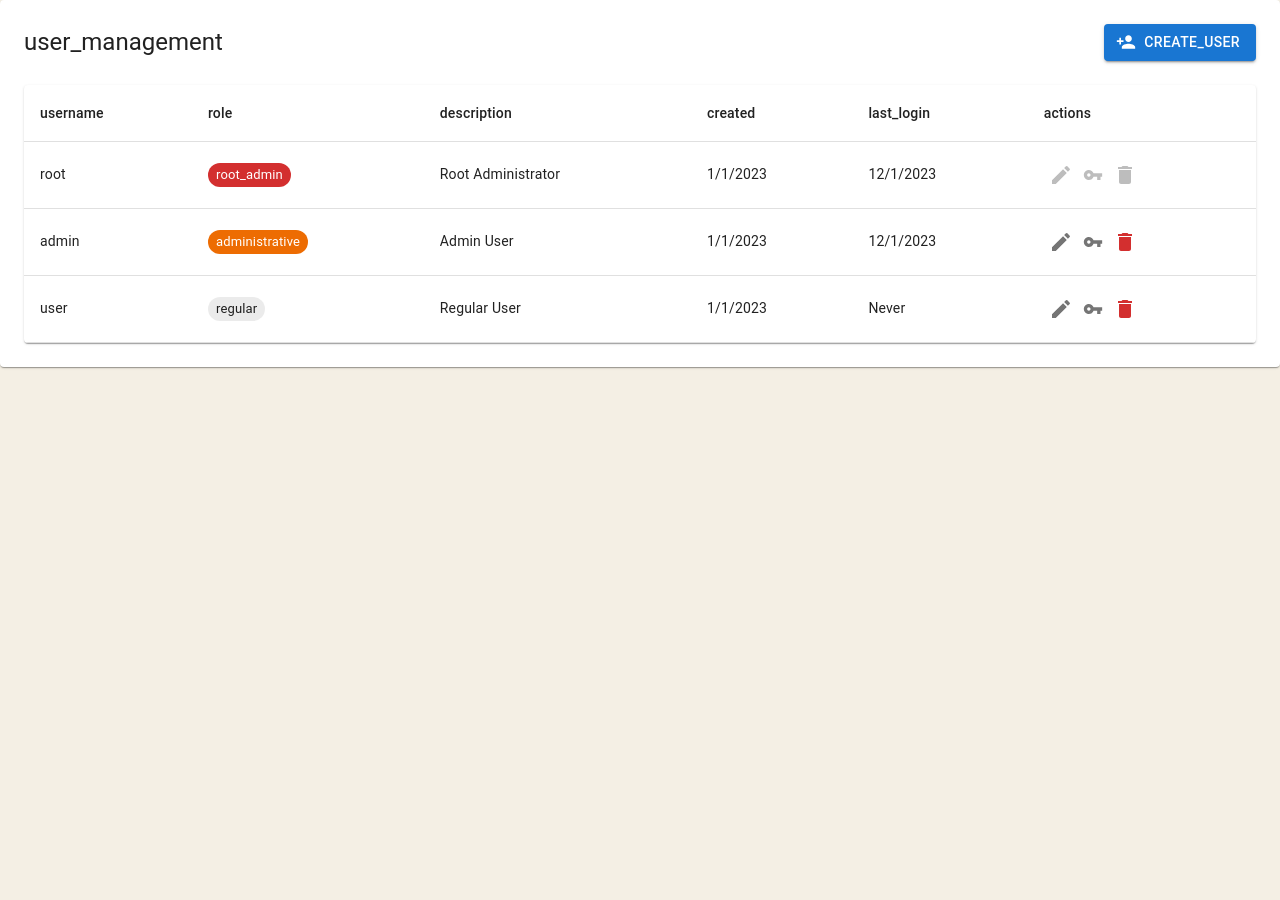
Test: UserManagement › should enable role dropdown when creating new user
Check: the text "root" is shown, box left=24, top=141, right=192, bottom=208
Note: Click create user button
Click the button "create_user" at (1180, 42), box left=1104, top=24, right=1256, bottom=60
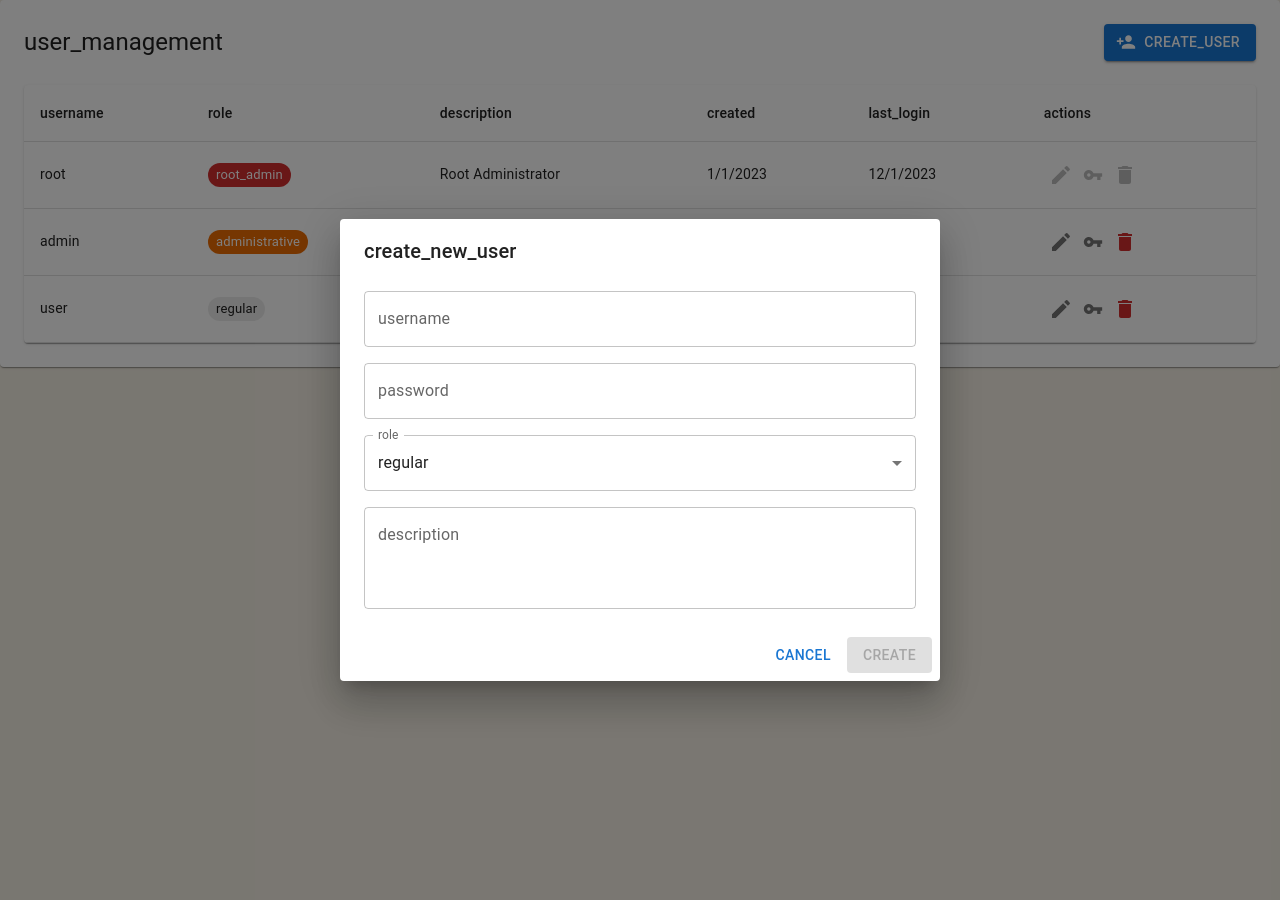
Check: the heading "create_new_user" is shown, box left=364, top=239, right=516, bottom=263
Check: the element showing "regular" is enabled, box left=364, top=435, right=916, bottom=491
